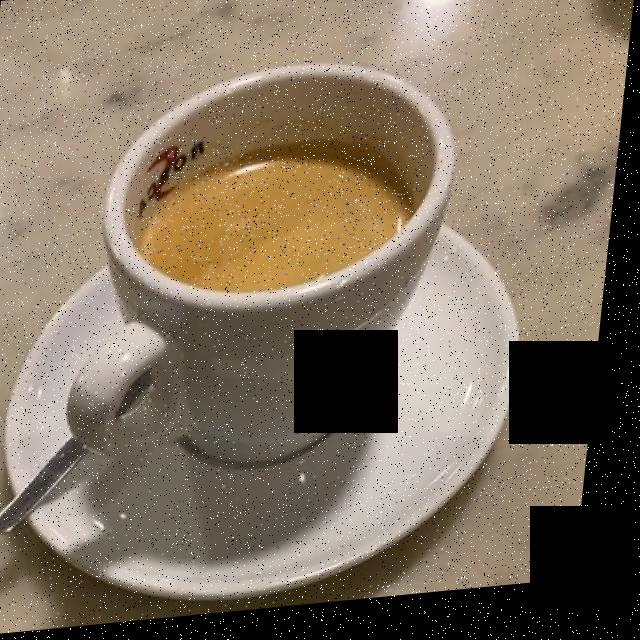espresso-with-caffeine: (146, 155, 406, 294)
